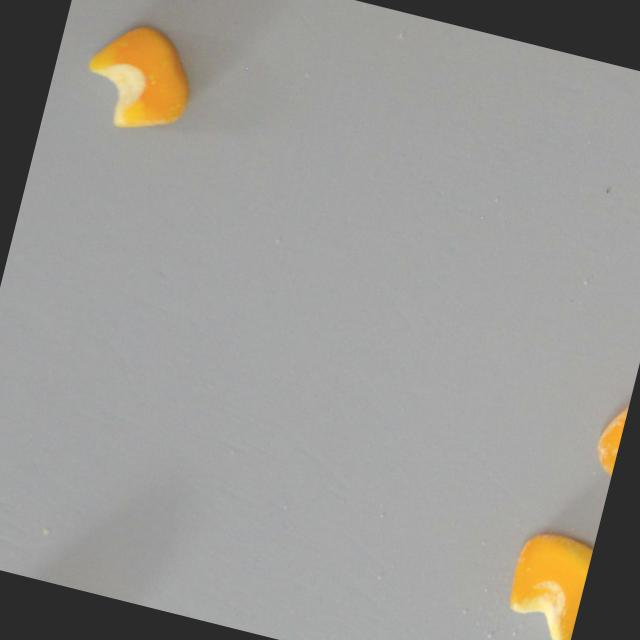no_canjicado: (74, 12, 204, 142), (498, 524, 595, 640)
pelicula: (589, 365, 637, 489)
